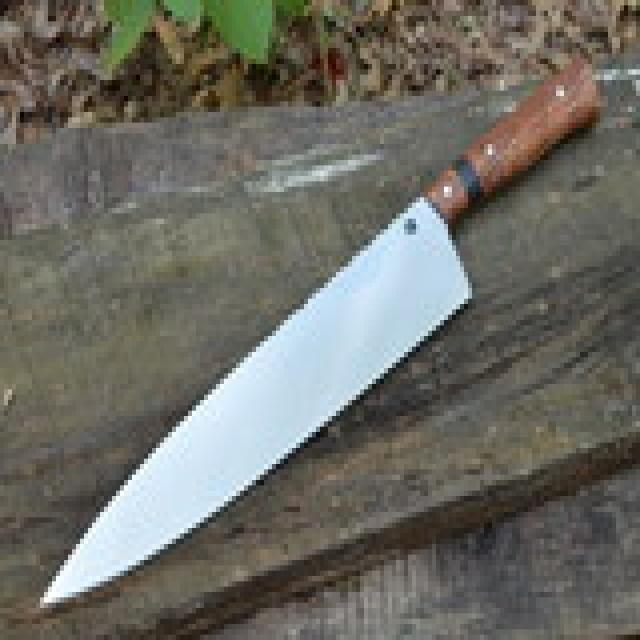Knife: (40, 49, 602, 616)
